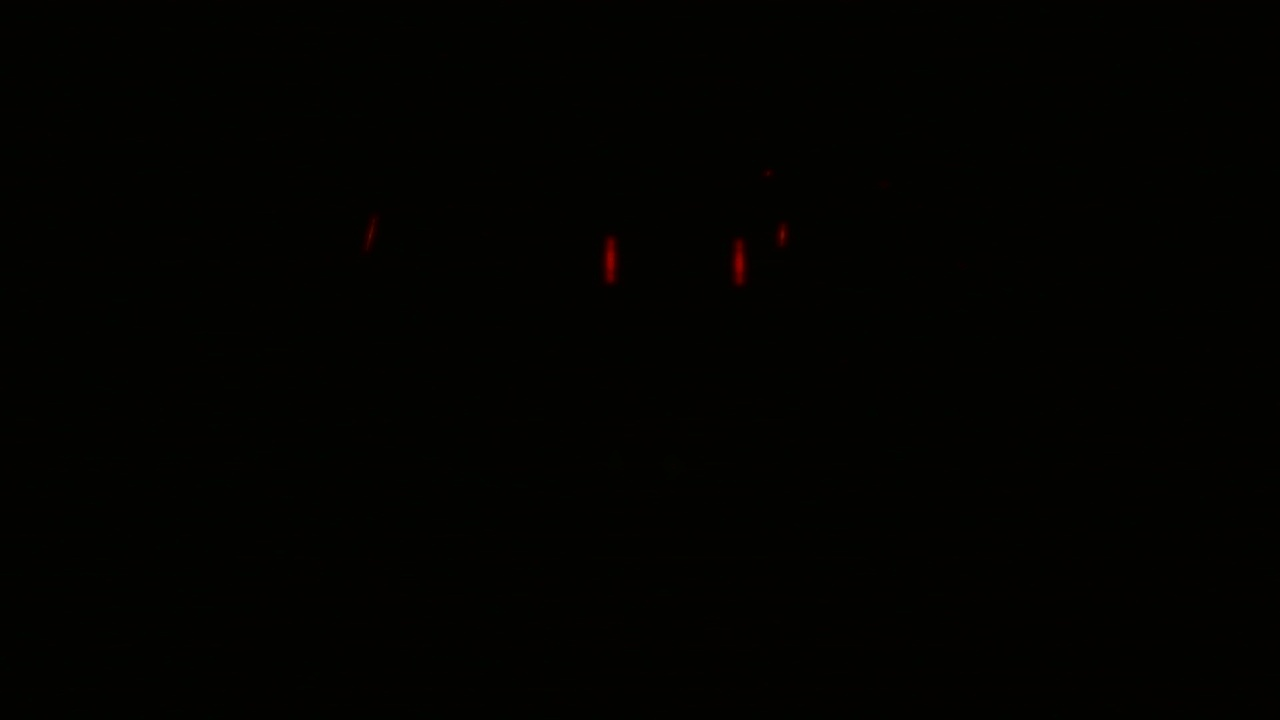pair1: (601, 231, 747, 288)
